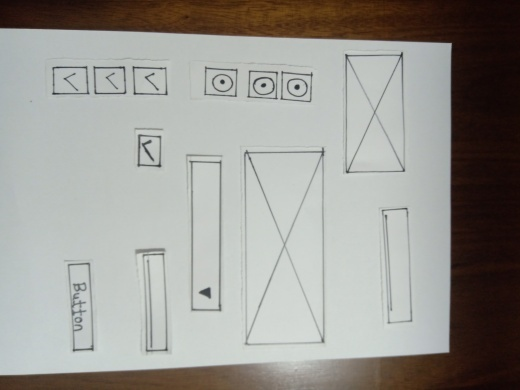button: (64, 263, 94, 352)
checkbox: (132, 68, 167, 97), (52, 66, 87, 95), (93, 64, 128, 93), (135, 137, 159, 167)
dropdown: (189, 156, 223, 314)
img: (244, 145, 325, 346), (346, 54, 406, 171)
radio: (281, 73, 312, 101), (204, 67, 235, 95), (247, 70, 278, 98)
text: (381, 207, 413, 324), (140, 249, 168, 355)
